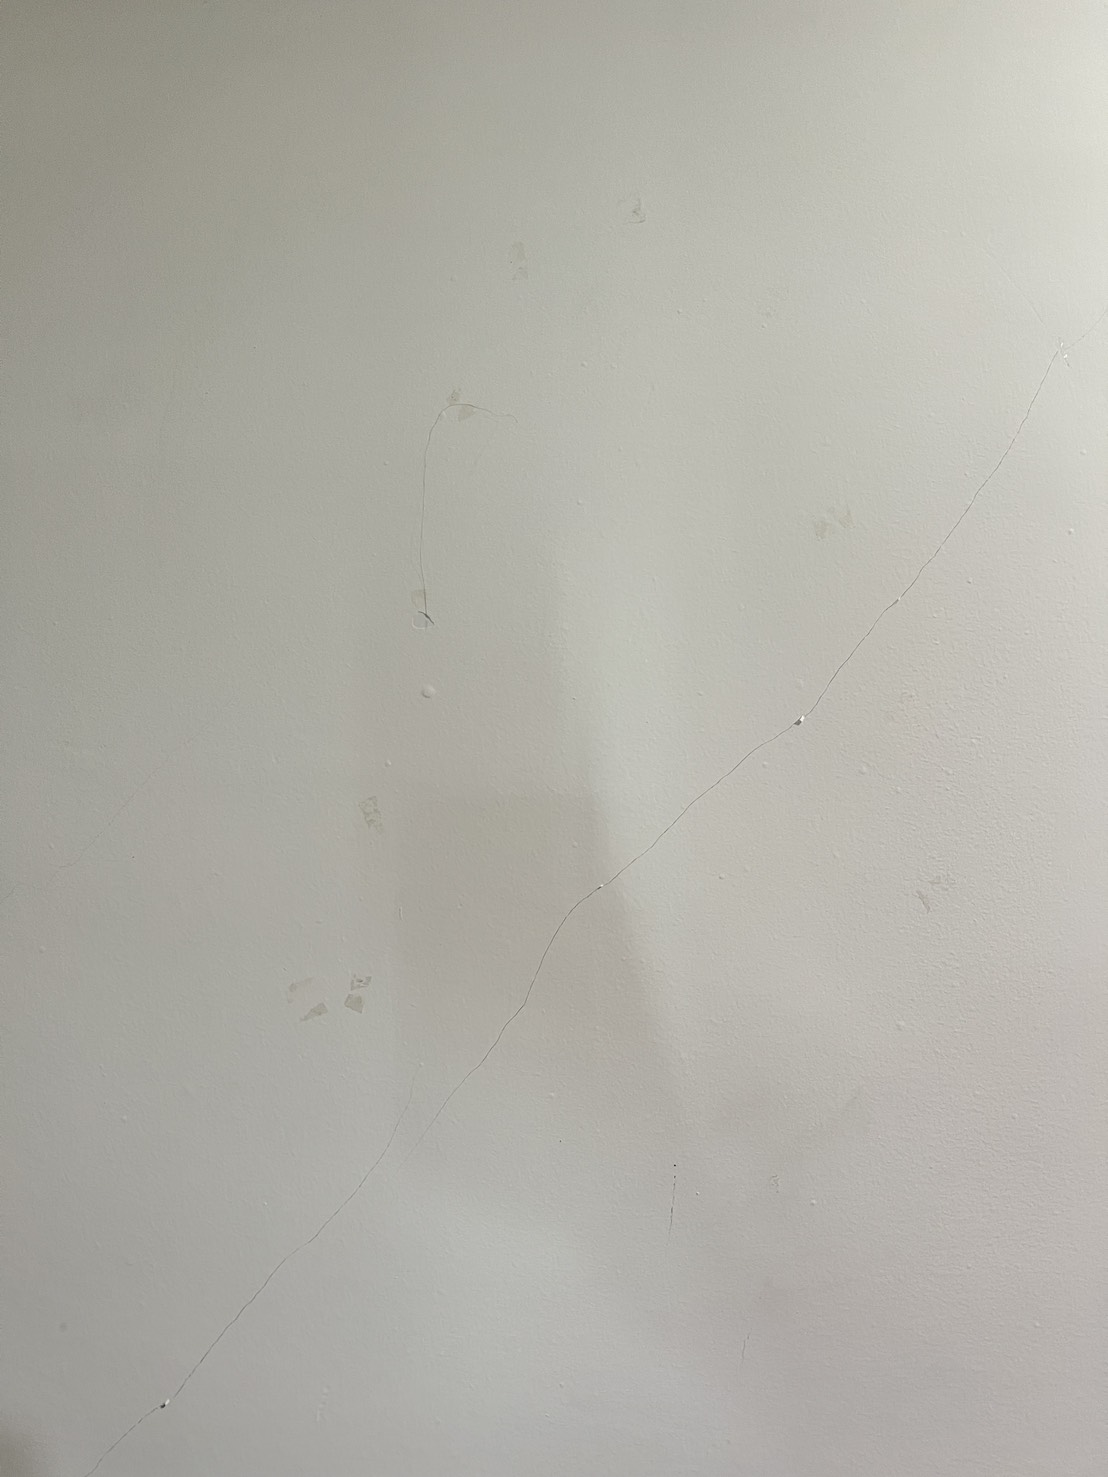Low: (83, 281, 1091, 1465)
